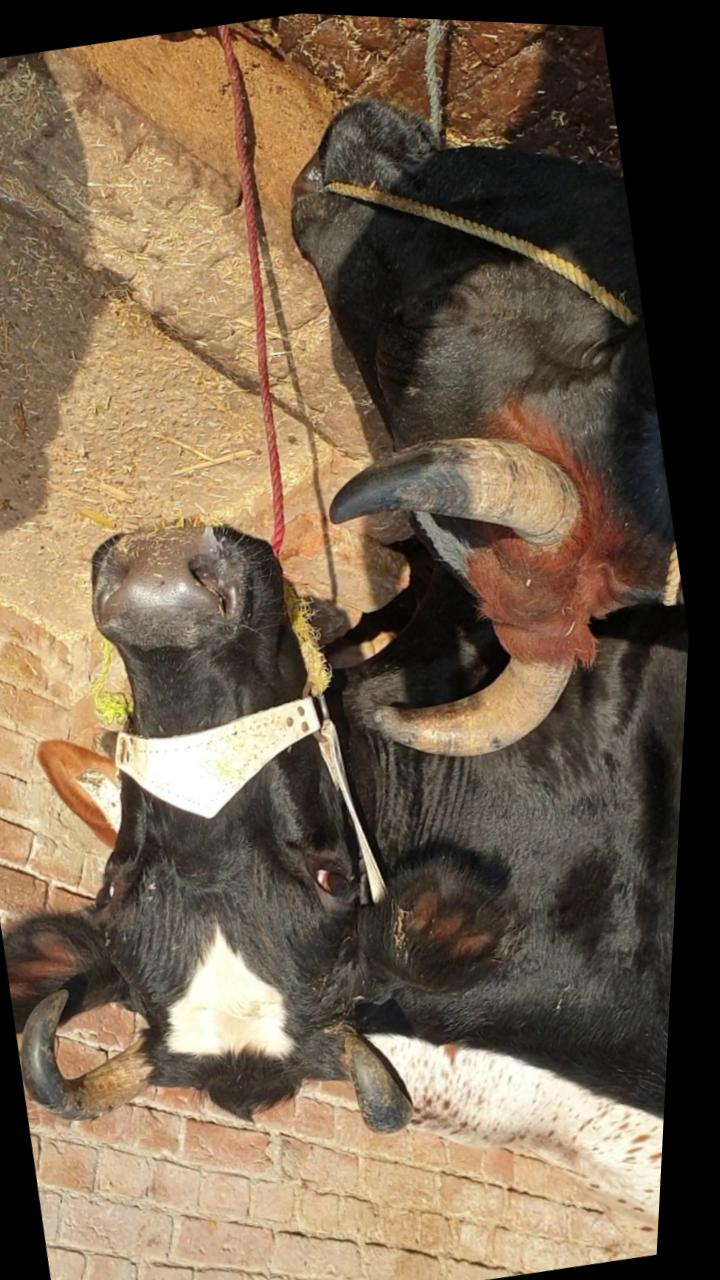cows: (0, 465, 443, 1136), (238, 42, 675, 671)
